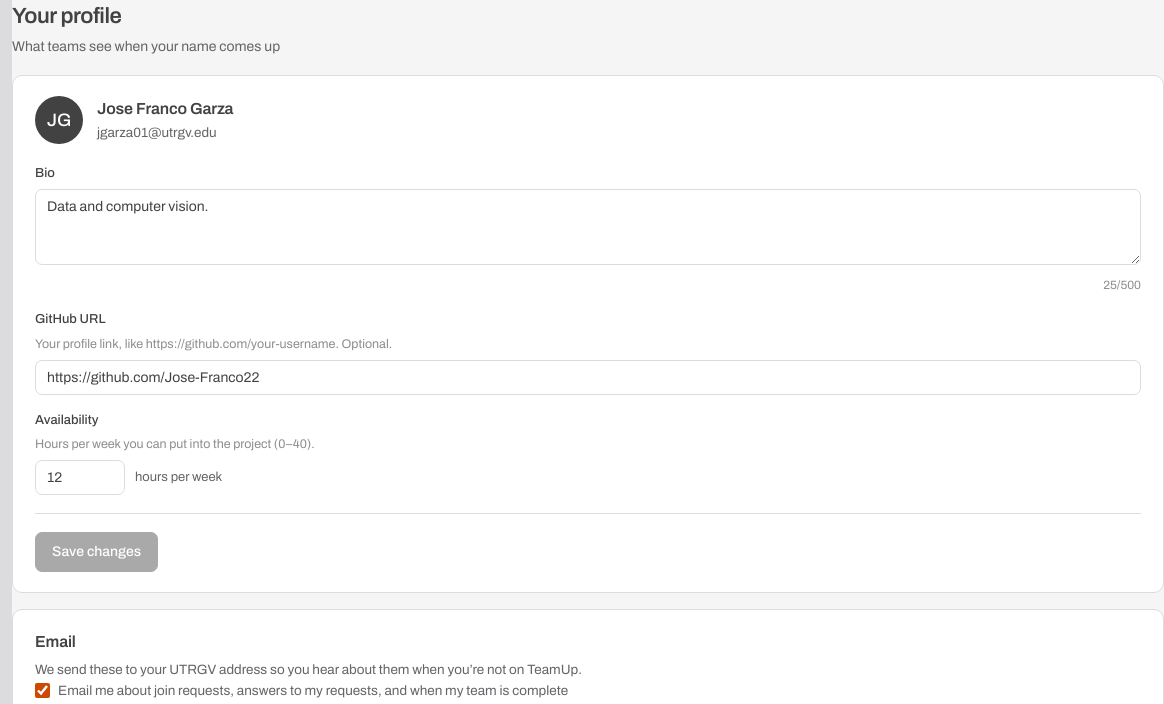
Test case: availability › an empty value is an error, not a silent 0
Expected: the heading "Your profile" is shown, left=12, top=4, right=121, bottom=28
Clear the number field labelled "Availability": (80, 478) left=35, top=460, right=125, bottom=495
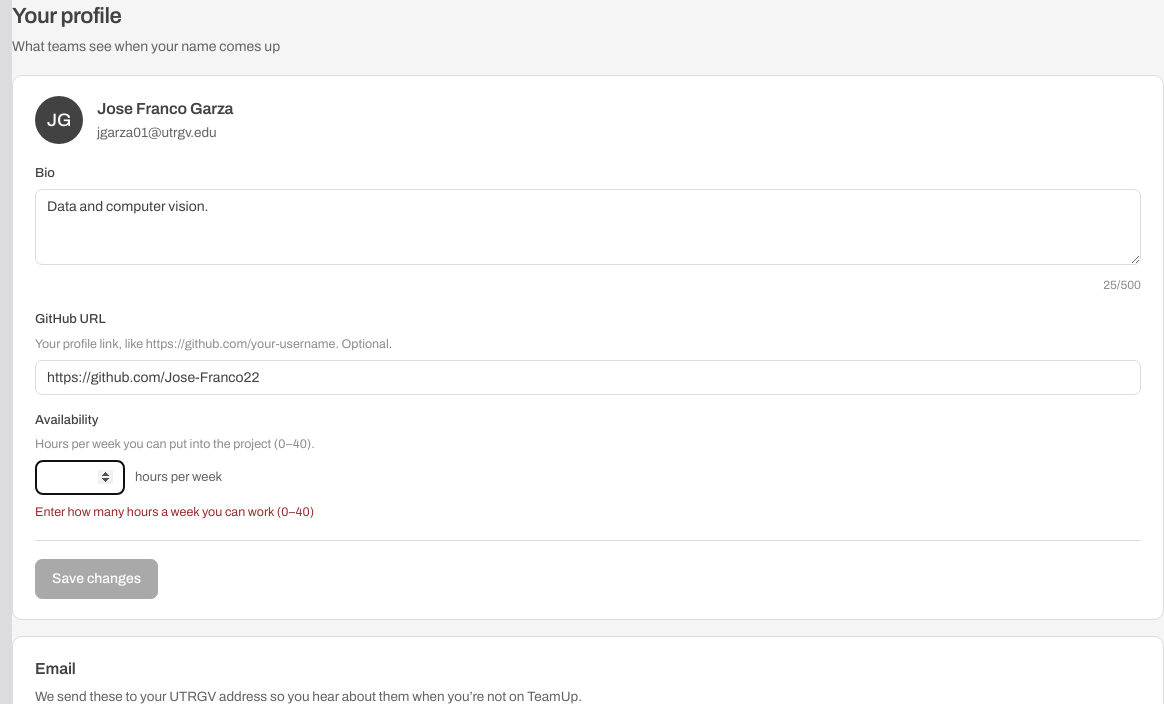
Expected: the button "Save changes" is disabled, left=35, top=559, right=158, bottom=599
Expected: the text "Enter how many hours a week you can work (0–40)" is shown, left=35, top=505, right=314, bottom=519
